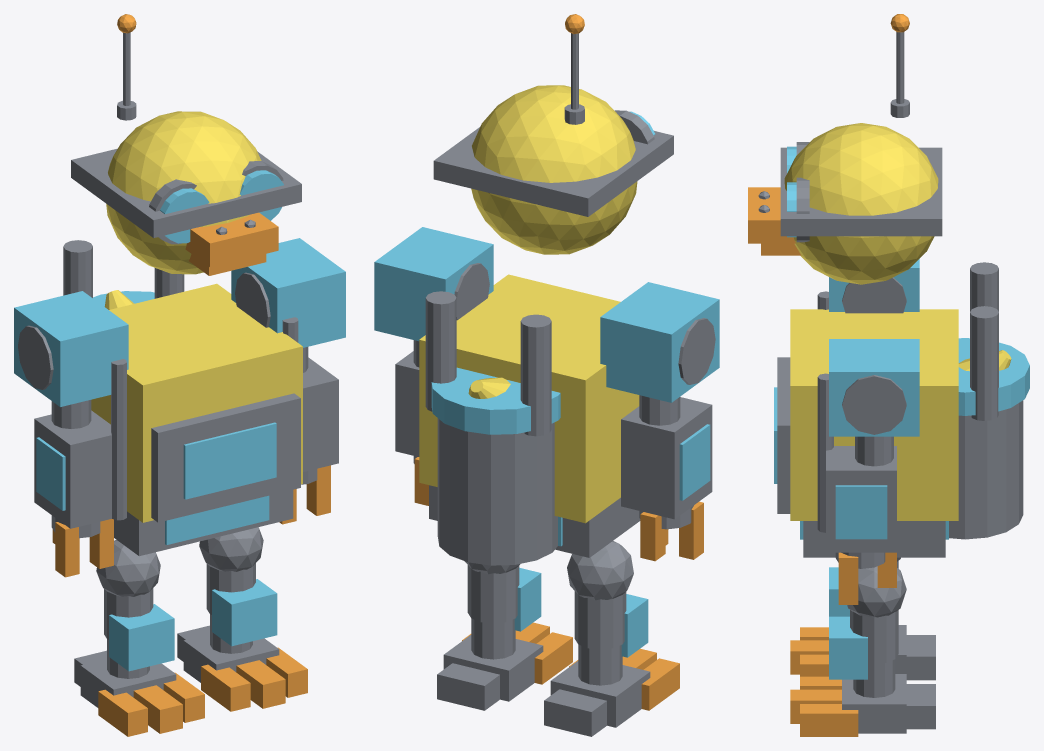
File: rubber-duck-mech.glb
The picture shows the model from 3 angles, left to right: view 1: azimuth 30°, elevation 25°; view 2: azimuth 150°, elevation 25°; view 3: azimuth 270°, elevation 25°; orthographic projection. The views are drawn at different scales.
Visible parts, largest first — view 1: DuckTorso, DuckHead, MechChestPlate, MechPauldron_L, MechPauldron_R, GoggleStrap, Forearm_L, MechChestAccent, Forearm_R, KneeGuard_L, KneeGuard_R, DuckBeak_Upper (+29 smaller); view 2: DuckTorso, DuckHead, BoilerTank, MechPauldron_L, MechPauldron_R, GoggleStrap, Forearm_L, BoilerCap, ExhaustStack_L, ExhaustStack_R, HipSocket_L, PelvisChassis (+22 smaller); view 3: DuckTorso, DuckHead, BoilerTank, MechPauldron_R, GoggleStrap, Forearm_R, ExhaustStack_R, ShoulderJoint_R, ForearmTrim_R, PelvisChassis, FootChassis_R, BoilerCap (+26 smaller).
Boxes of the visible parts, x1,y1,x2,y2 form: DuckTorso: (91, 283, 302, 522); DuckHead: (106, 111, 261, 274); MechChestPlate: (151, 393, 300, 522); MechPauldron_L: (14, 291, 128, 406); MechPauldron_R: (231, 238, 345, 347); GoggleStrap: (71, 148, 301, 237); Forearm_L: (34, 410, 111, 528); MechChestAccent: (183, 422, 276, 499); Forearm_R: (303, 357, 338, 471); KneeGuard_L: (109, 604, 174, 671); KneeGuard_R: (212, 579, 277, 646); DuckBeak_Upper: (185, 212, 278, 267); DuckTorso: (419, 274, 639, 523); DuckHead: (471, 85, 637, 254); BoilerTank: (437, 418, 557, 565); MechPauldron_L: (600, 282, 719, 402); MechPauldron_R: (374, 227, 493, 341); GoggleStrap: (433, 127, 673, 216); Forearm_L: (621, 397, 712, 519); BoilerCap: (431, 367, 560, 434); ExhaustStack_L: (520, 314, 551, 436); ExhaustStack_R: (425, 291, 456, 411); HipSocket_L: (567, 541, 633, 600); PelvisChassis: (429, 485, 640, 557); DuckTorso: (790, 309, 958, 520); DuckHead: (784, 123, 938, 284); BoilerTank: (949, 400, 1023, 539); MechPauldron_R: (829, 339, 919, 436); GoggleStrap: (780, 147, 942, 236); Forearm_R: (826, 446, 896, 552); ExhaustStack_R: (970, 306, 998, 420); ShoulderJoint_R: (842, 375, 906, 434); ForearmTrim_R: (835, 485, 887, 539); PelvisChassis: (803, 521, 945, 557); FootChassis_R: (842, 674, 906, 733); BoilerCap: (958, 338, 1029, 415).
Size of the model in its own units: 1.02 by 2.25 by 0.87.
